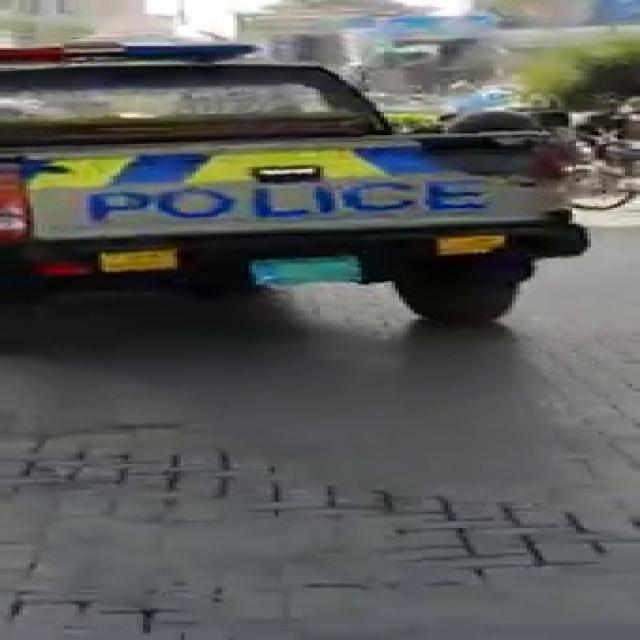police: (0, 61, 603, 332)
